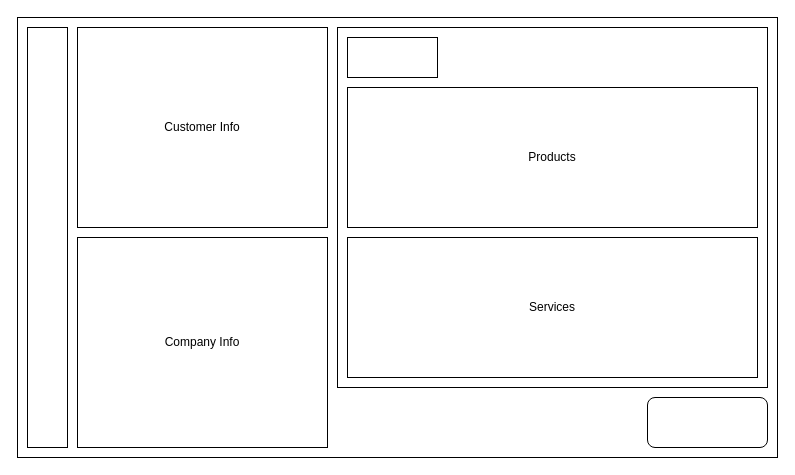
Some shapes in this 795 by 475 pixel diagram are drawn without their labels. Here are the shapes that lost their labels. From the top down, the centre of each, then its label:
At point 392,57: "Invoice Number".
At point 47,237: "Menu".
At point 707,422: "Create".
